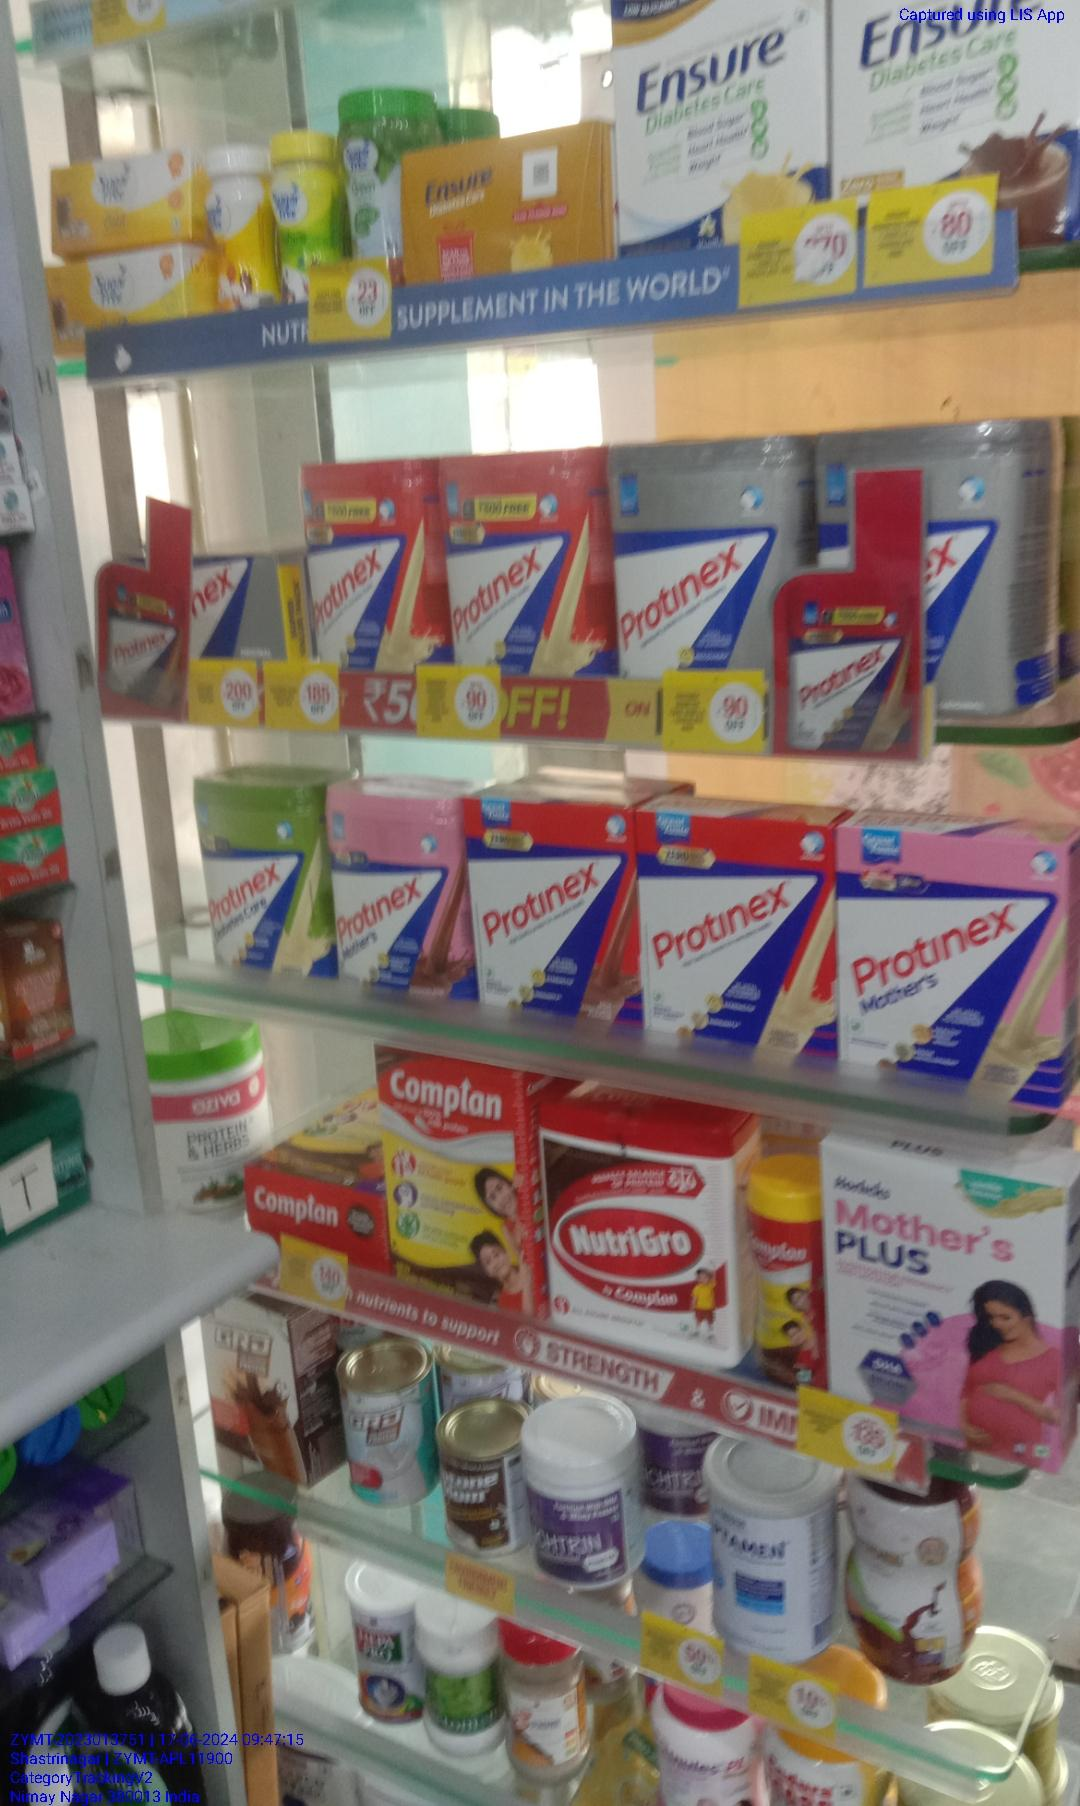COMPLAN_CHOCOLATE_500_GMS_JAR: (746, 1181, 816, 1399)
